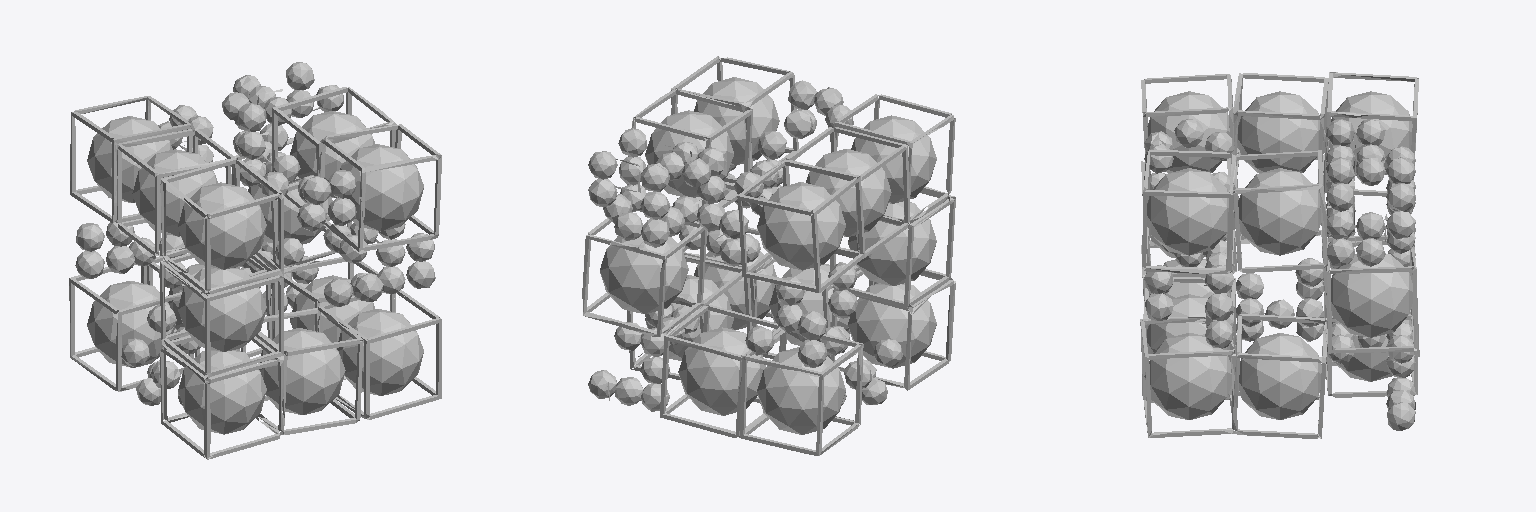
The model's file is hqalt1.obj.
3 renders of one model, left to right at view 1: azimuth 30°, elevation 25°; view 2: azimuth 150°, elevation 25°; view 3: azimuth 270°, elevation 25°, orthographic.
Size of the model in its own units: 0.9967 by 0.9993 by 0.9992.